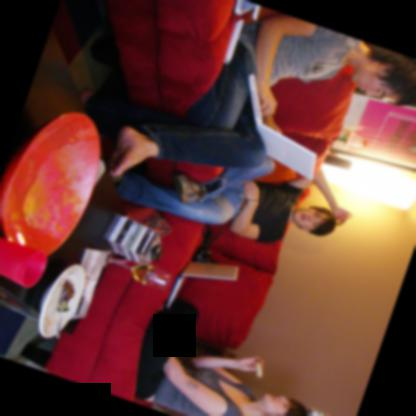handbag: (108, 194, 172, 263)
